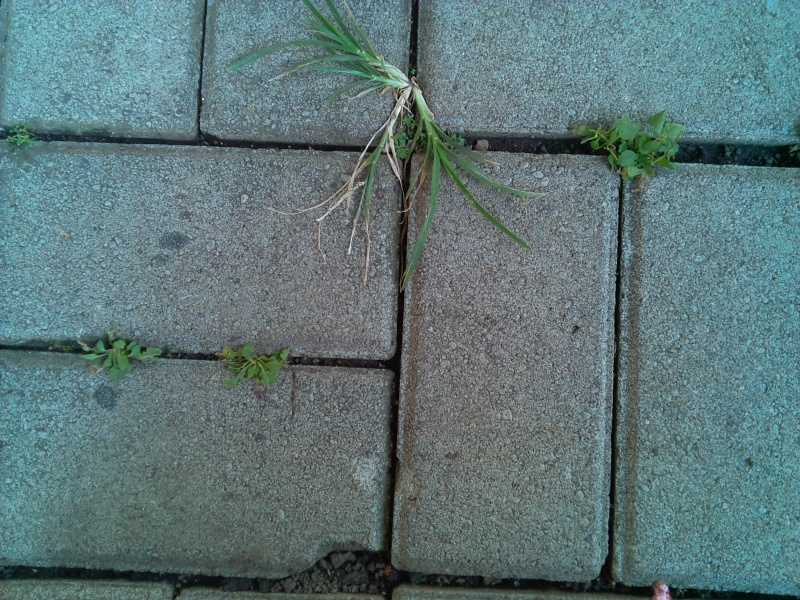Weed: (323, 87, 513, 253), (260, 3, 410, 95), (575, 108, 694, 186), (69, 328, 175, 388), (208, 335, 296, 392), (391, 113, 465, 156), (2, 121, 46, 156)
